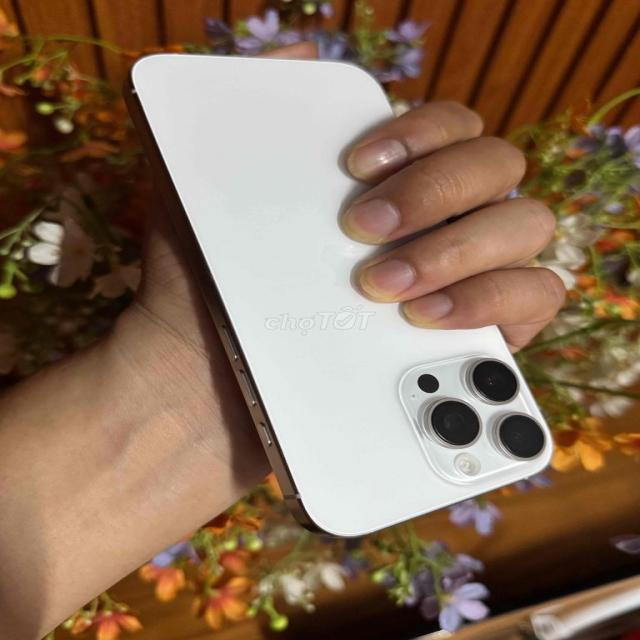gen_16: (128, 54, 551, 536)
